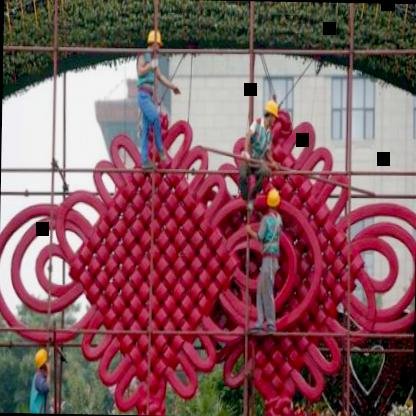helmet: (258, 99, 280, 132), (145, 23, 162, 58), (264, 183, 283, 213), (32, 346, 48, 376)
